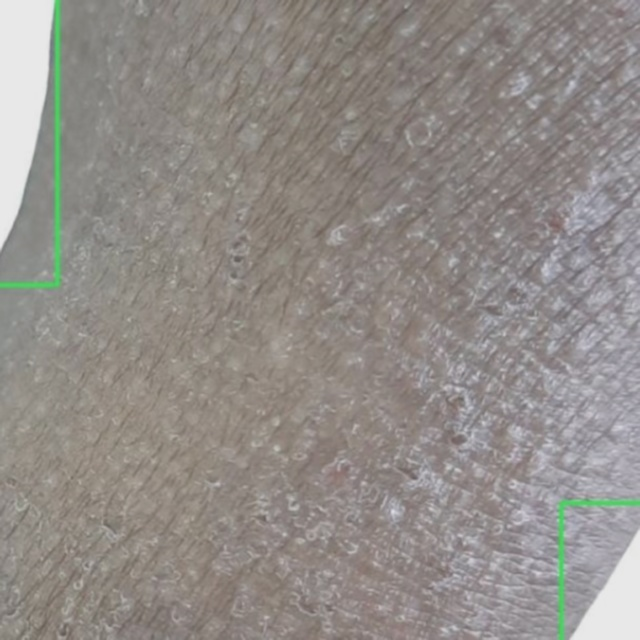Contact Dermatitis: (0, 0, 57, 286), (561, 503, 639, 639)
